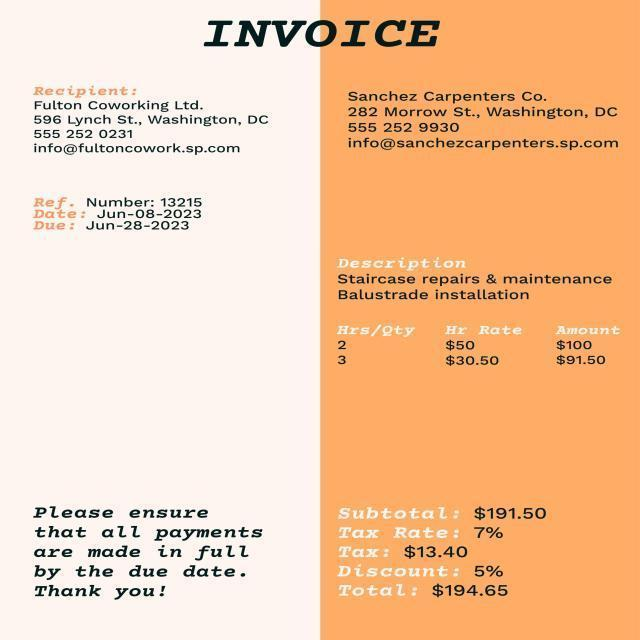ROI: (329, 252, 631, 379), (26, 487, 270, 612), (331, 497, 558, 611), (337, 86, 634, 168), (24, 76, 278, 164), (27, 182, 221, 251), (189, 14, 445, 63)
